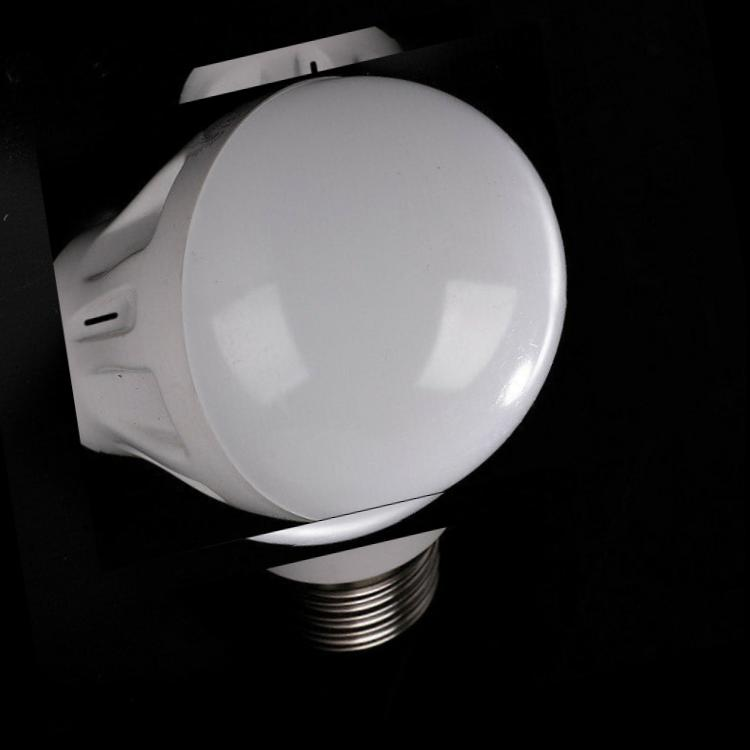Fan: (45, 12, 596, 592)
